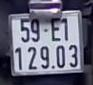0: (54, 43, 66, 72)
1: (15, 45, 25, 73), (62, 17, 70, 42)
2: (27, 45, 38, 72)
3: (68, 40, 82, 70)
5: (18, 17, 30, 45)
9: (38, 44, 51, 72), (31, 17, 42, 43)
E: (48, 16, 61, 44)
